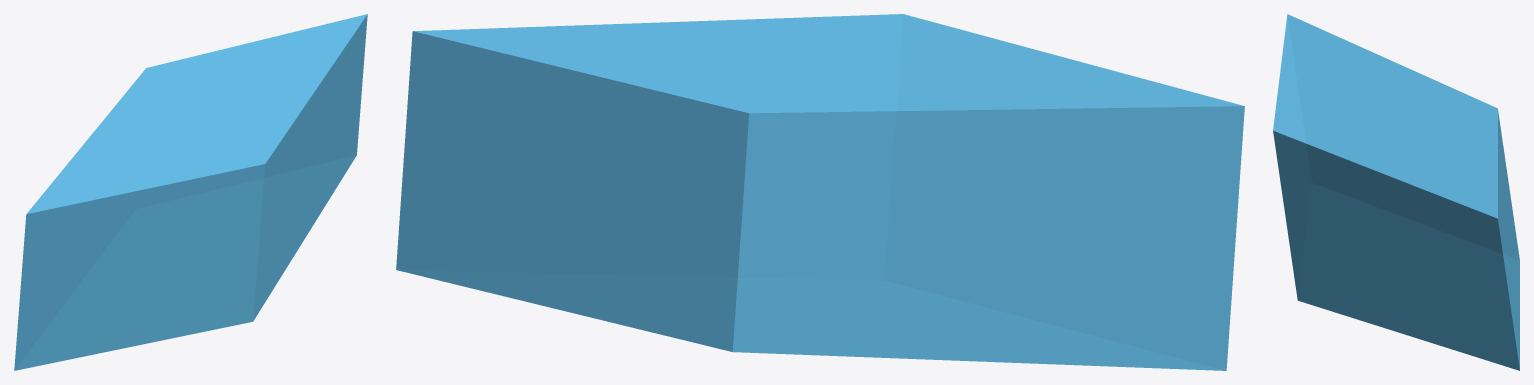
File: Event_421556567_HBrechit_7.fbx
The picture shows the model from 3 angles, left to right: view 1: azimuth 30°, elevation 25°; view 2: azimuth 150°, elevation 25°; view 3: azimuth 270°, elevation 25°; orthographic projection. The views are drawn at different scales.
Parts seen in each view (by area): view 1: Model; view 2: Model; view 3: Model.
Part boxes in pixels (x1,y1,x2,y2): Model: [14, 14, 367, 370]; Model: [396, 14, 1244, 370]; Model: [1273, 14, 1519, 370].
Bounding box in the file's own units: 1.24 × 0.4911 × 0.5853.
